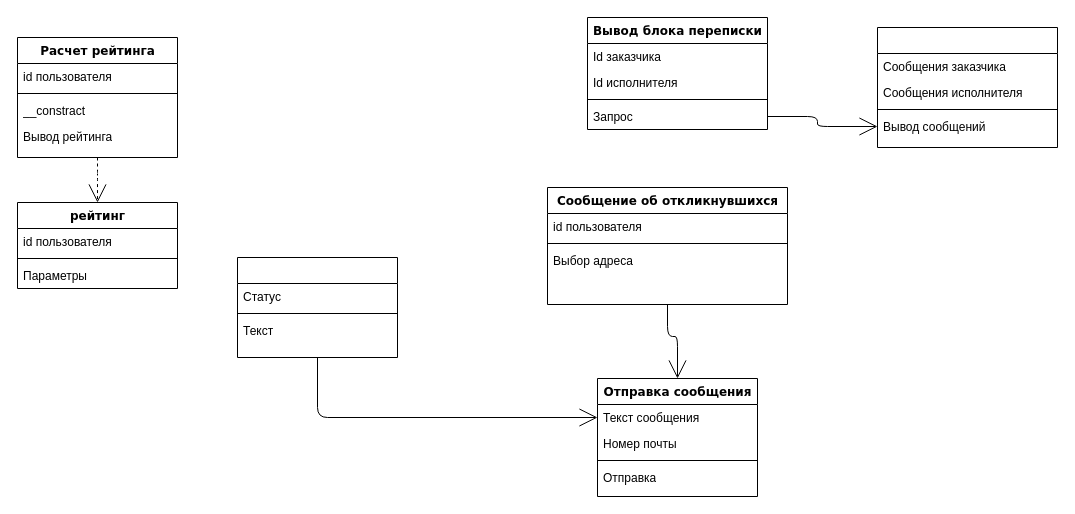
The diagram is 1075 pixels wide and 514 high, and some of its shapes have lost their labels. The shapes that lost their labels are listed below. From the top down, each one's box as (x1, y1, x2, y2) in pixels, then its label:
(876, 26, 1058, 148): Переписка с заказчиком
(236, 256, 398, 358): Смена статуса задания
